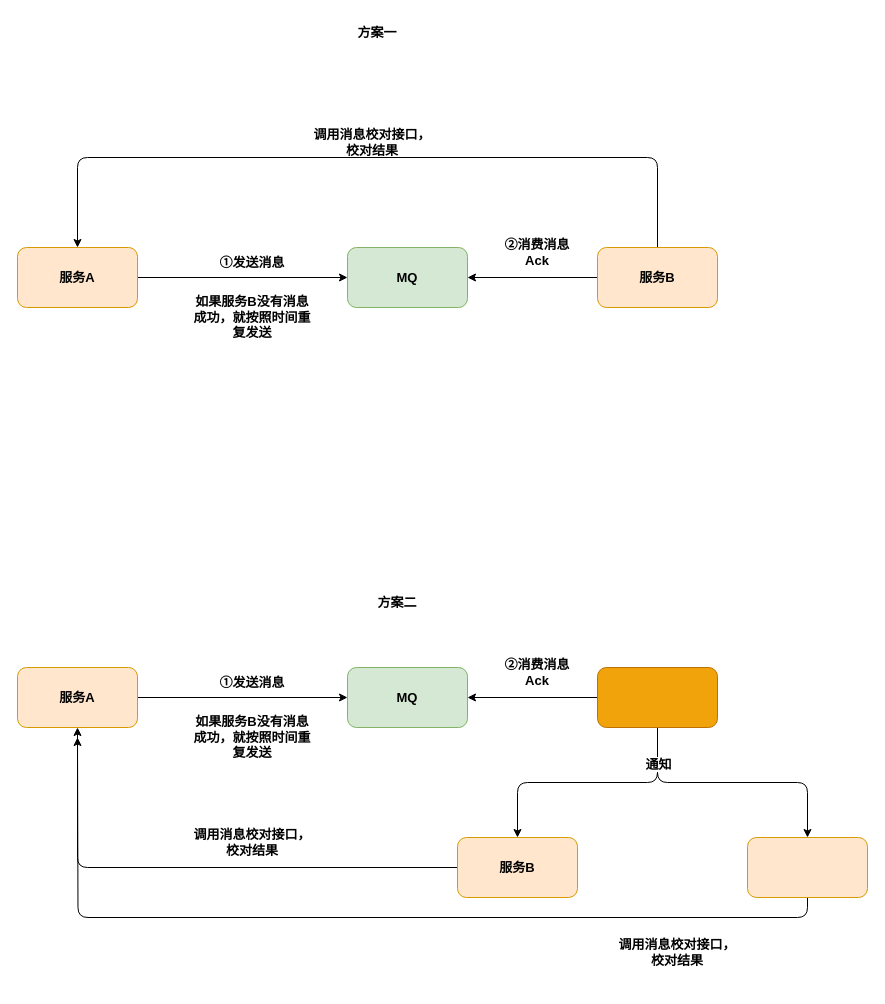
The diagram is 885 pixels wide and 1004 high, and some of its shapes have lost their labels. The shapes that lost their labels are listed below. From the top down, each one's centre as x and y in pixels, then its label:
(x=657, y=697): 通知程序
(x=807, y=867): 服务C
